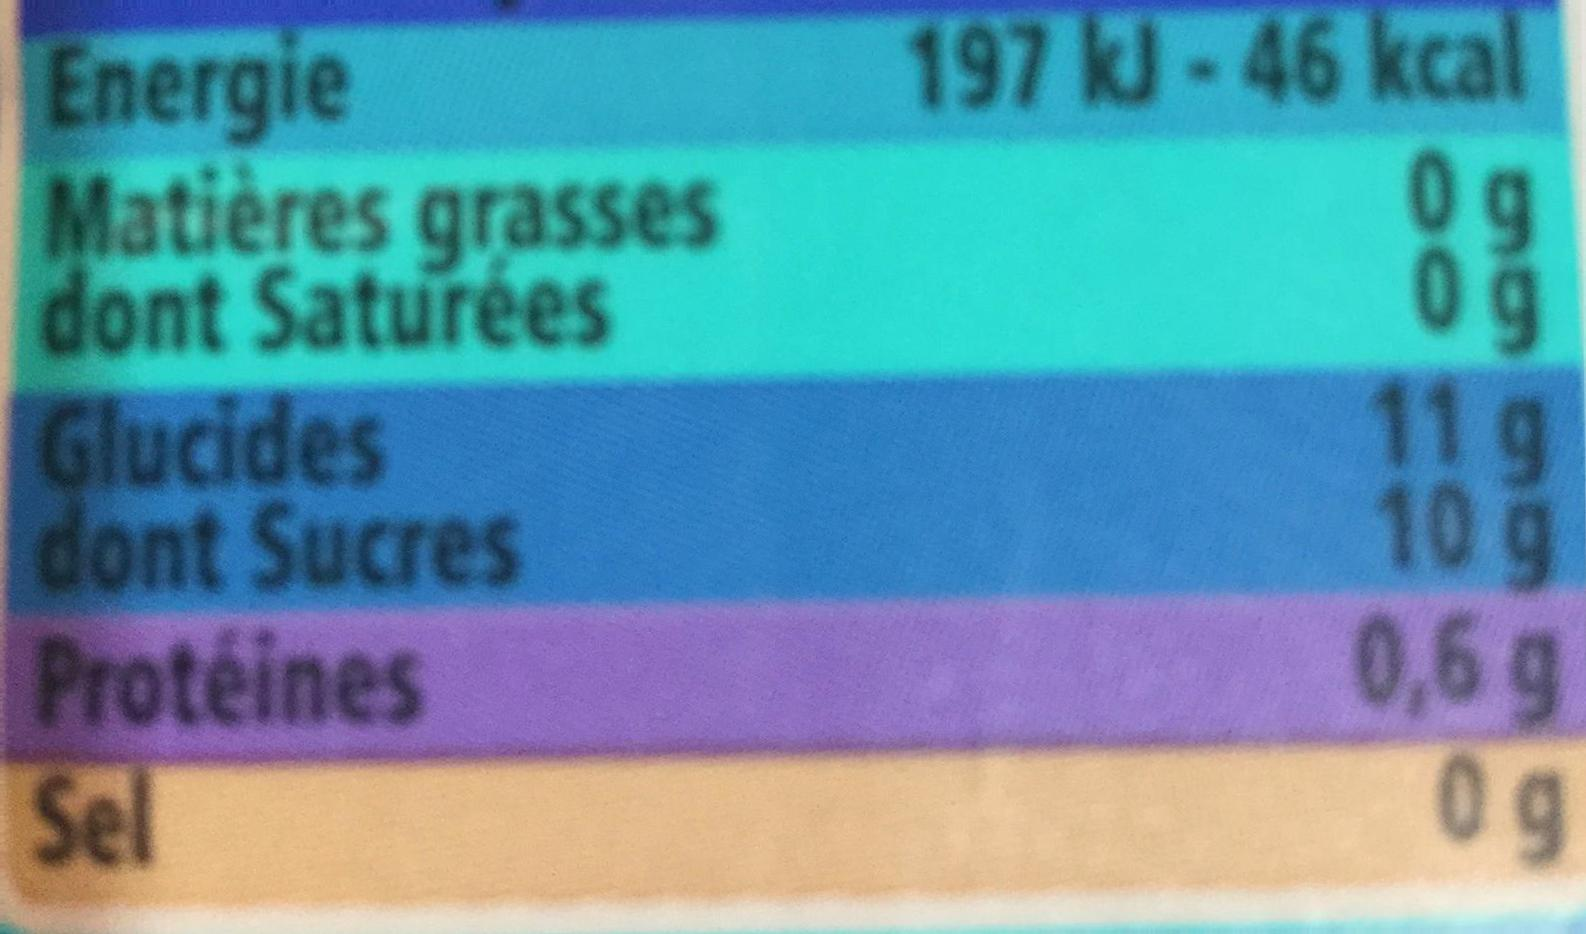column: (892, 6, 1574, 861), (34, 52, 715, 890)
line: (37, 751, 1577, 891), (41, 610, 1573, 744), (38, 4, 1515, 136), (43, 354, 1547, 471), (42, 489, 1547, 606), (38, 141, 1519, 252), (42, 259, 1539, 350)
table: (11, 3, 1578, 908)
